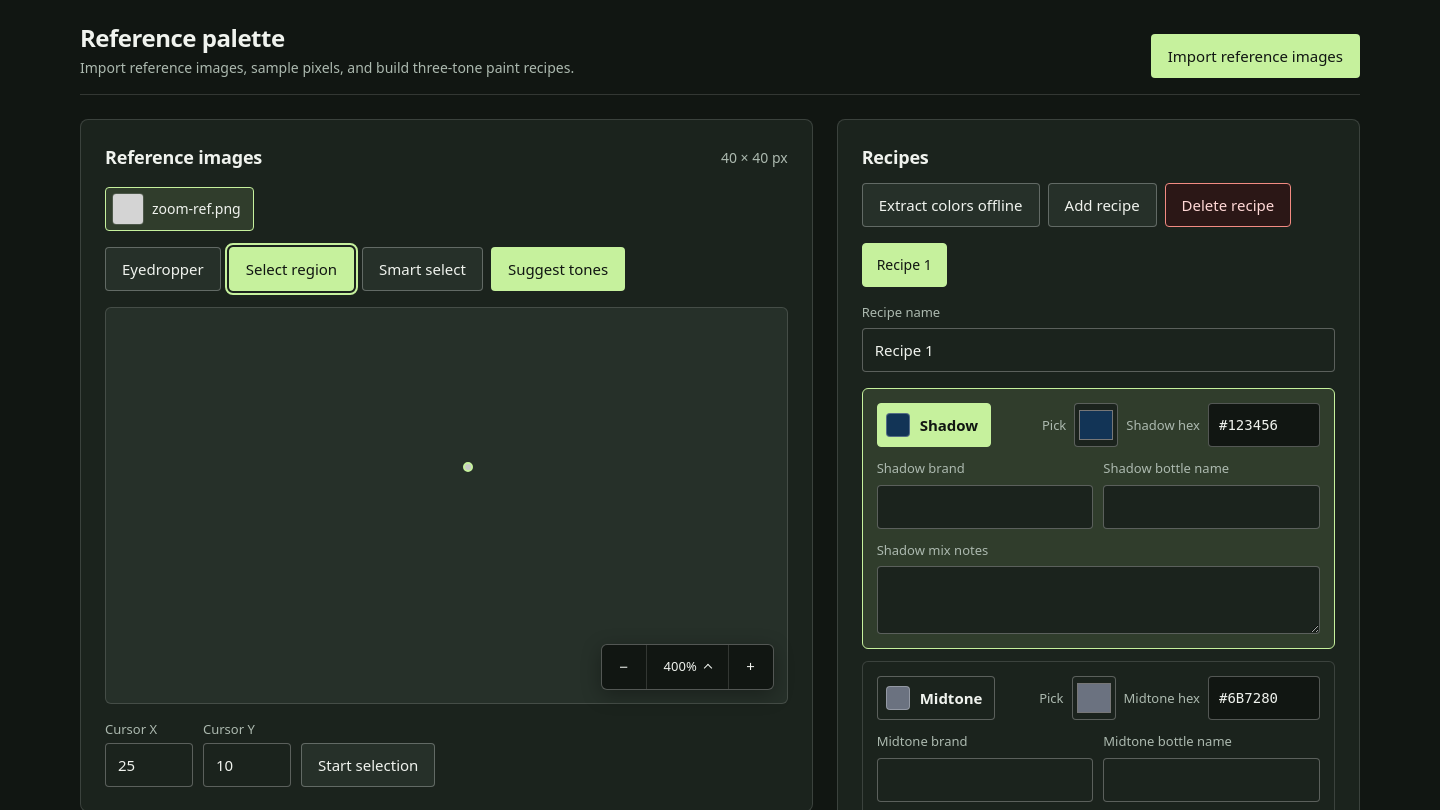
Scenario: PaletteWorkspace › supports zoom in/out, fit/reset, and source pixel-accurate eyedropper and selection under zoom and scroll
The width and height of the screenshot is (1440, 810).
Earlier steps of the test are not shown.
Press the mouse on the drawing with test id "reference-canvas" at (446, 505), box left=366, top=425, right=526, bottom=585
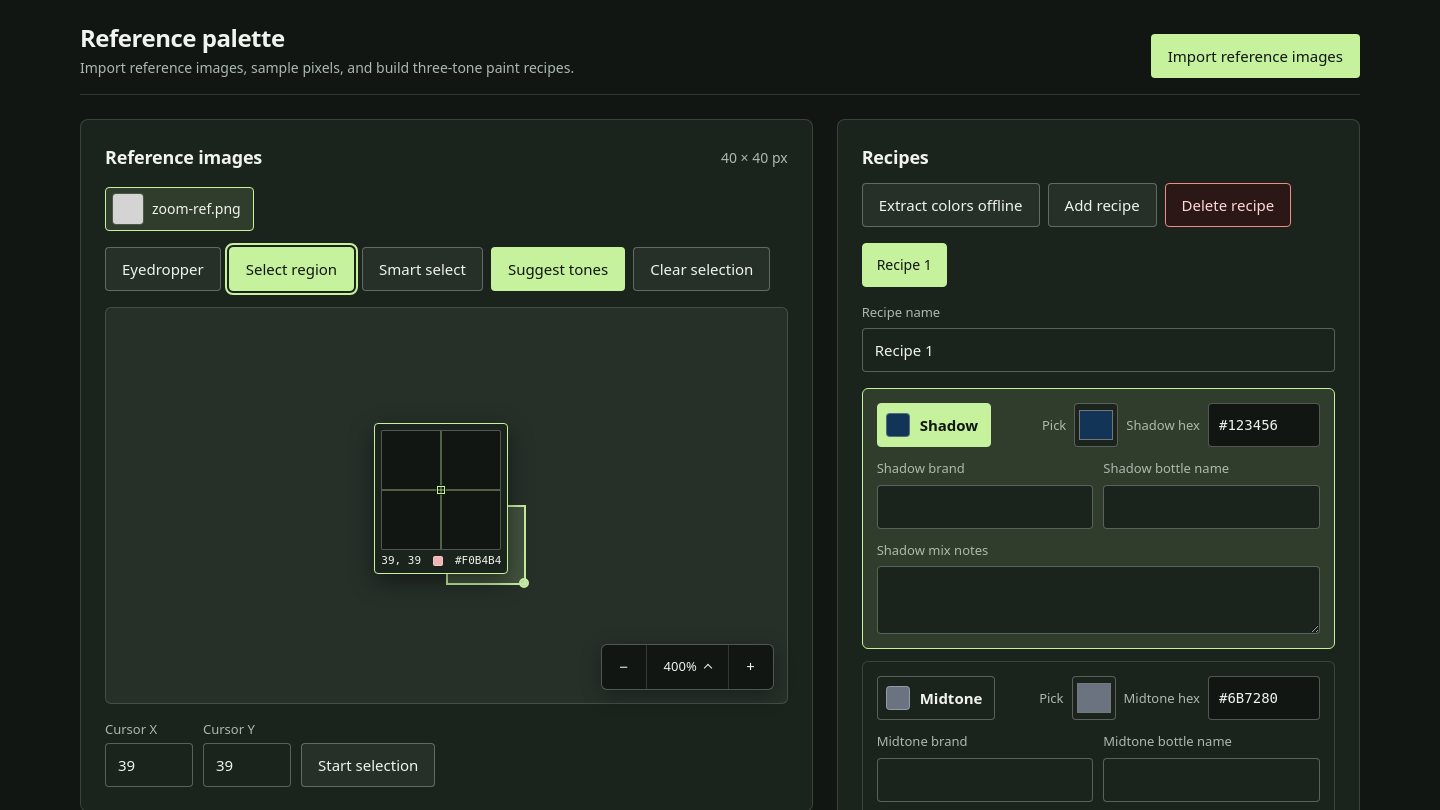
Click the button "Suggest tones".
click(558, 269)  # box left=491, top=247, right=625, bottom=291
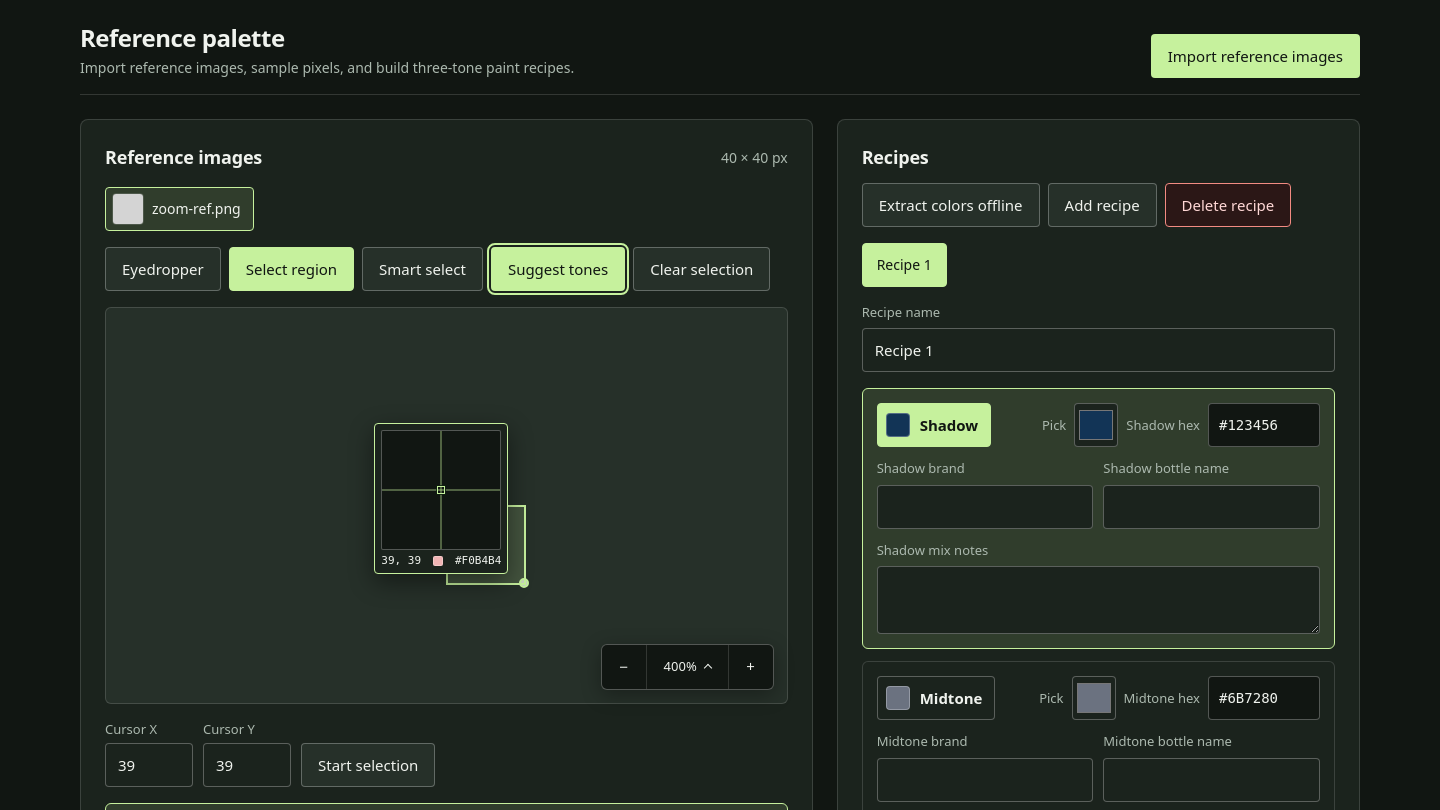
Click the button named "zoom out".
click(624, 667)  # box left=602, top=645, right=646, bottom=689
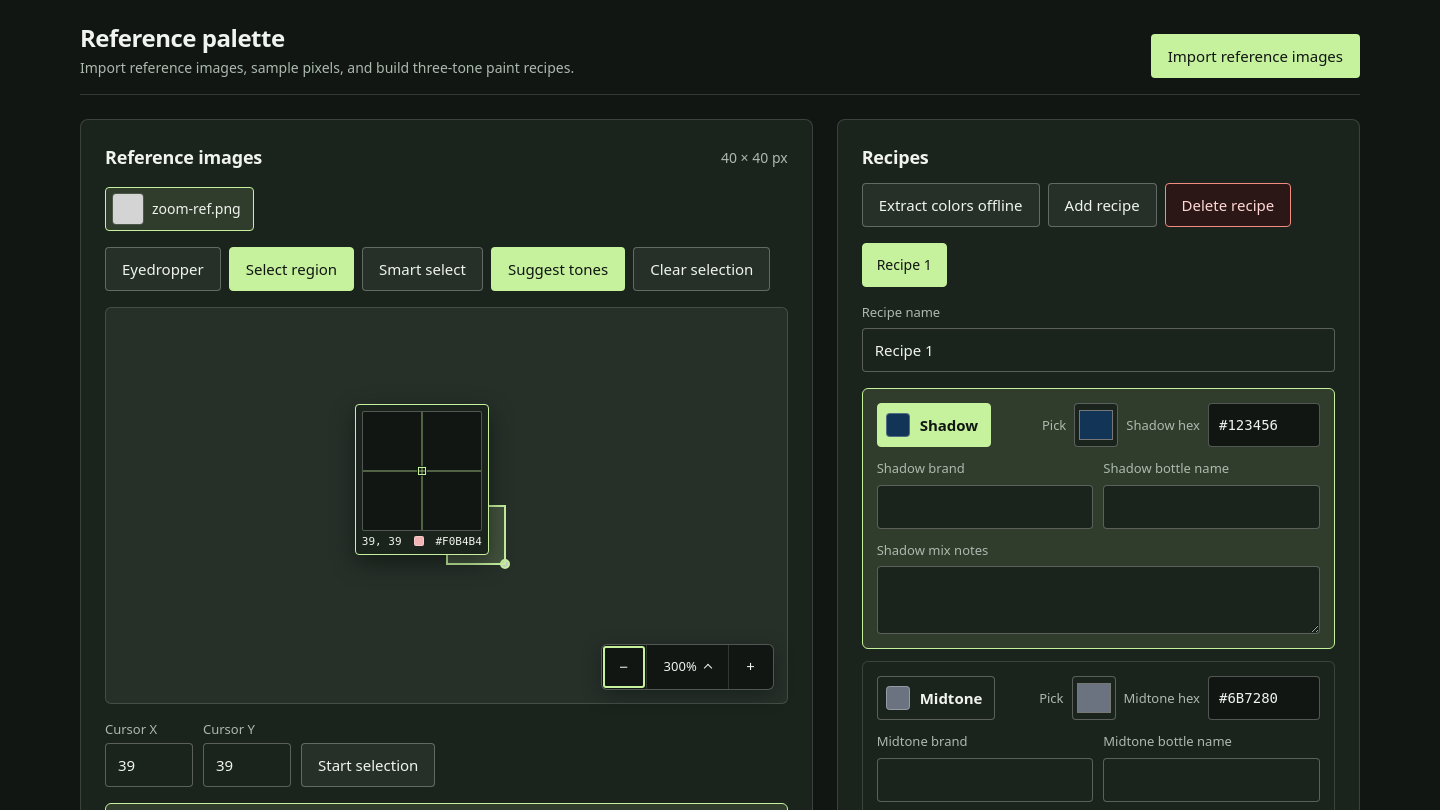
Now the text with test id "zoom-readout" reads "300%", box left=664, top=657, right=697, bottom=675
Click the heading named "Zoom presets".
click(687, 667)  # box left=646, top=645, right=729, bottom=689
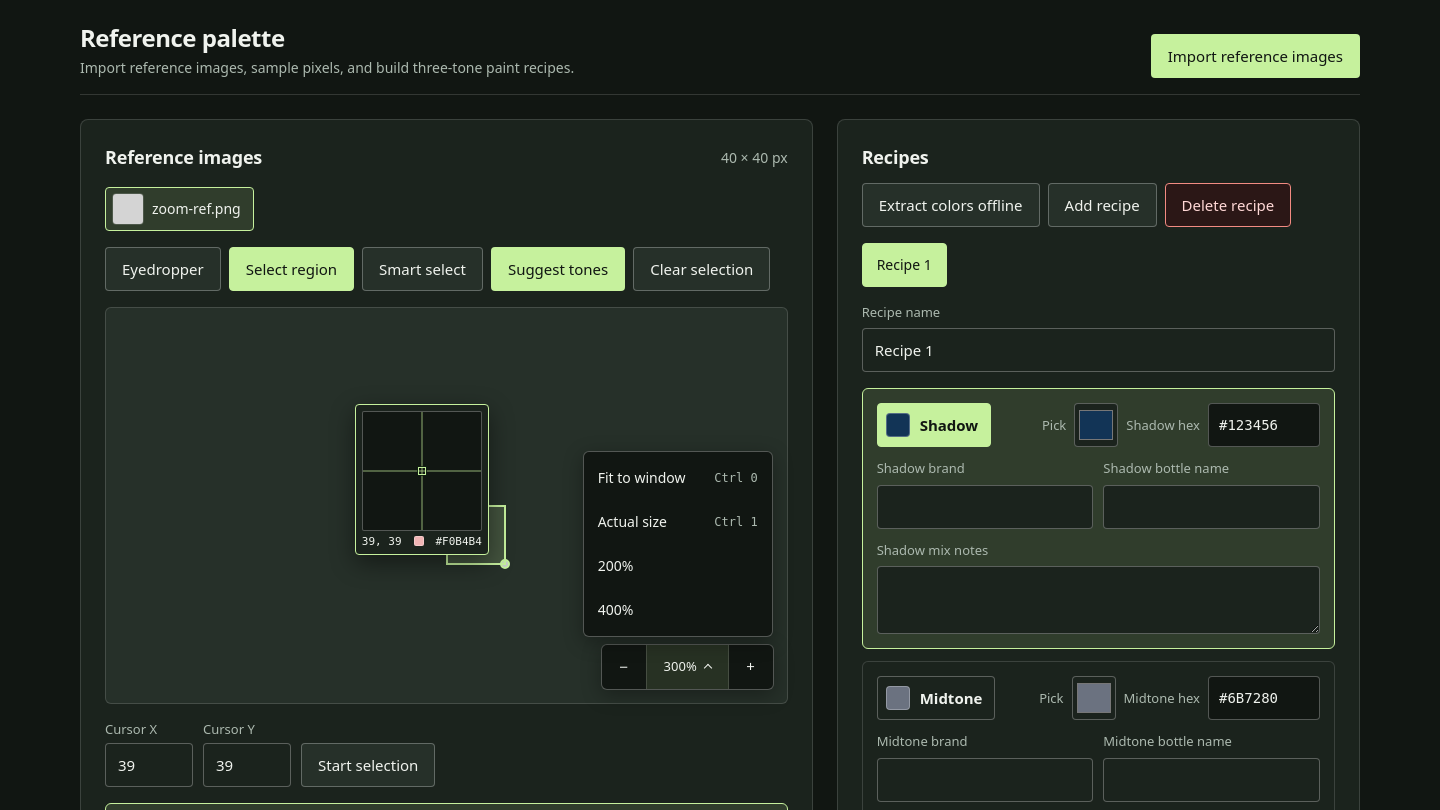
Click the button "Actual size Ctrl 1".
click(678, 522)  # box left=588, top=500, right=768, bottom=544
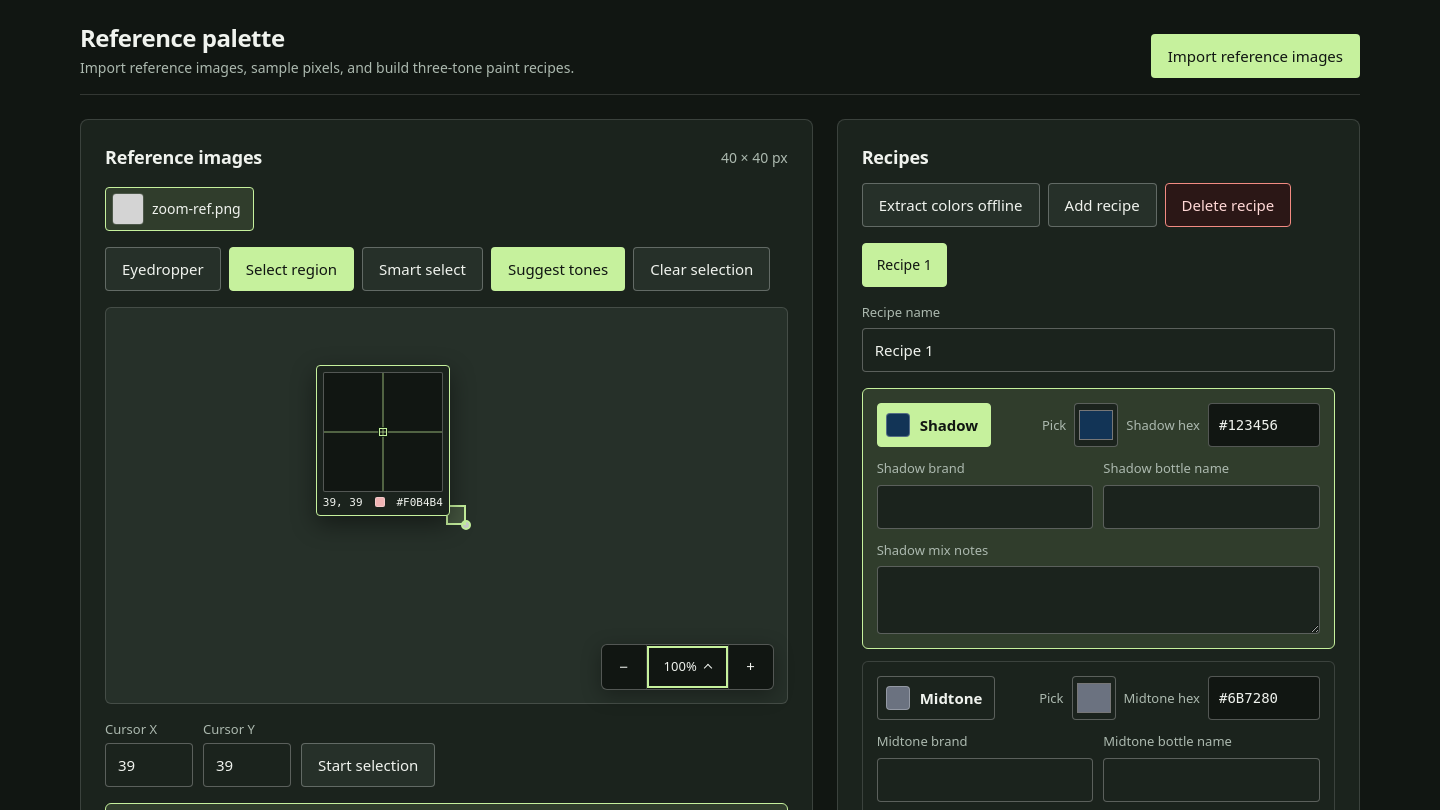
Now the text with test id "zoom-readout" reads "100%", box left=664, top=657, right=697, bottom=675
Press 0
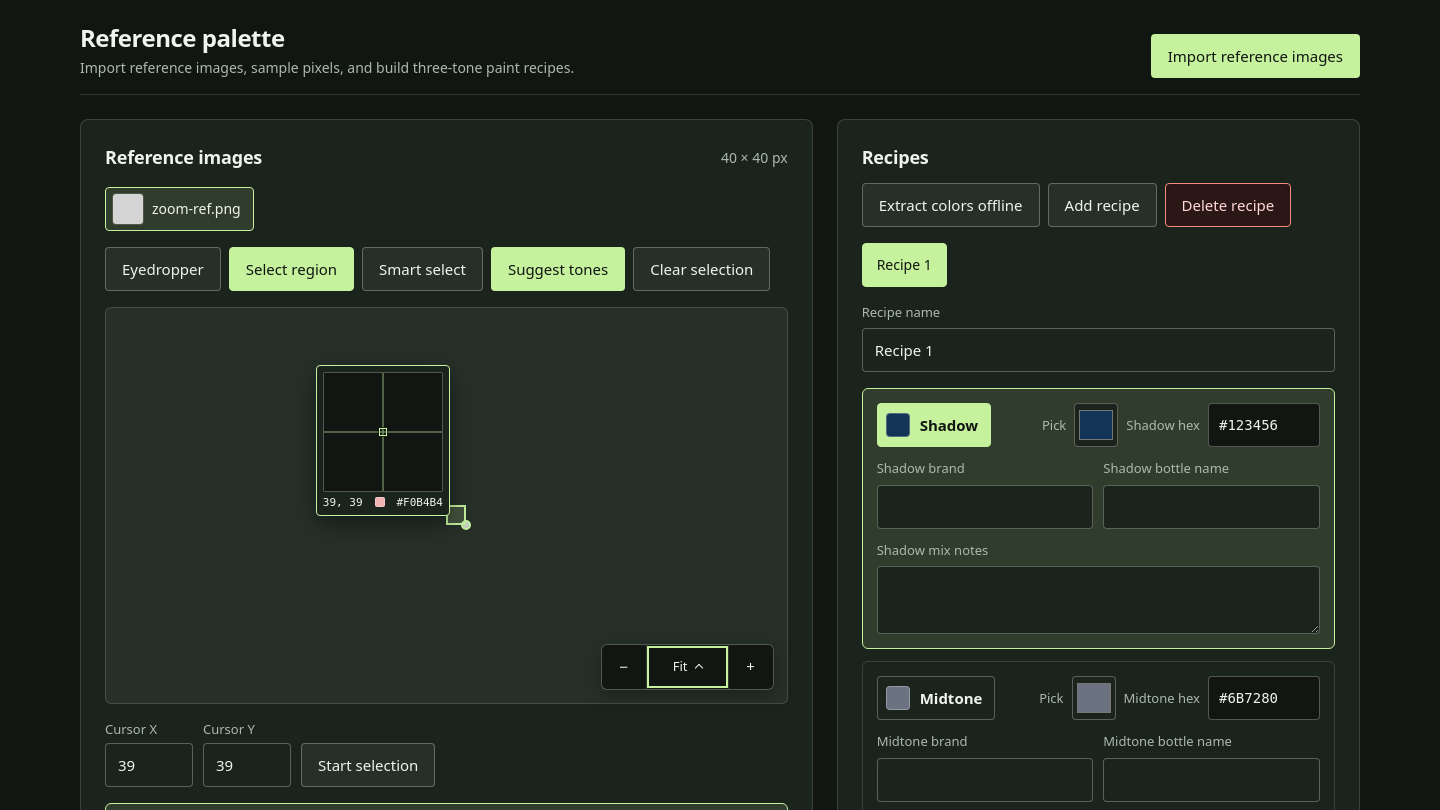
Now the text with test id "zoom-readout" reads "Fit", box left=673, top=657, right=688, bottom=675
